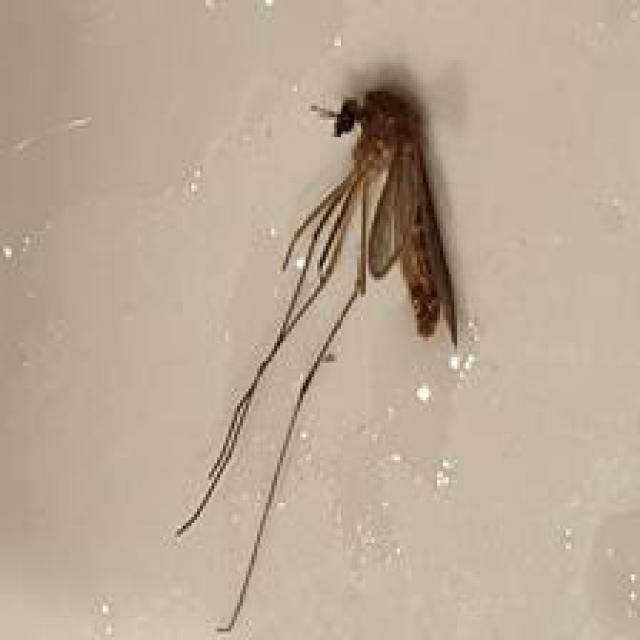Culex: (173, 84, 467, 633)
